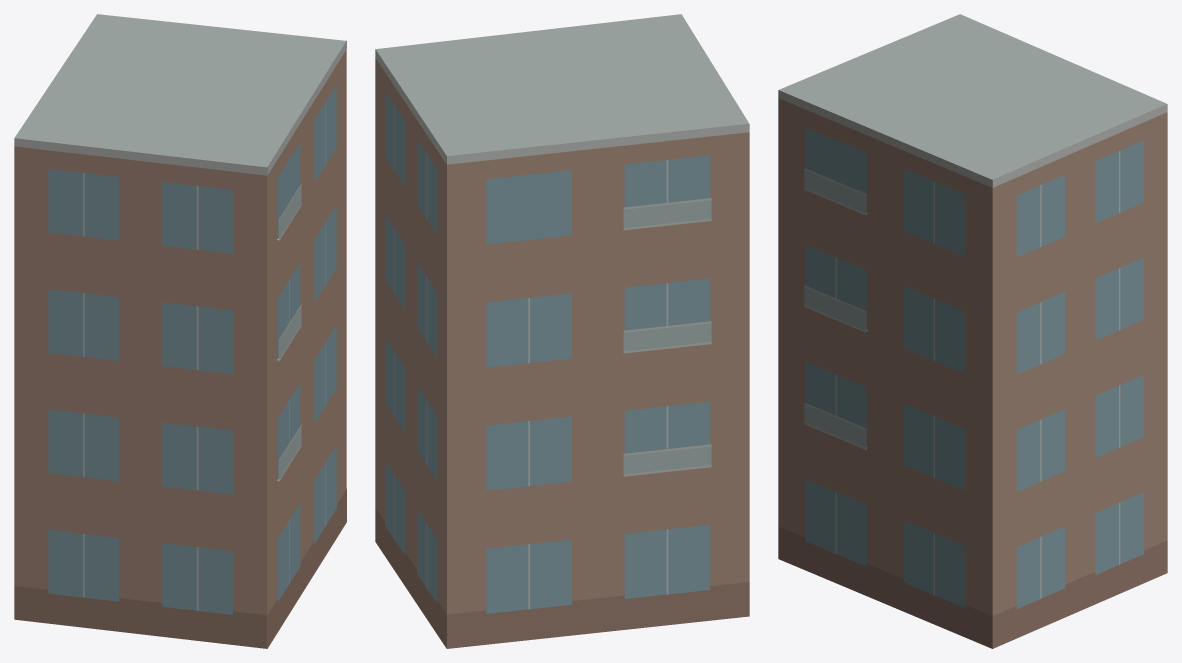
Rendered from survey-upis-32795684.glb.
3 renders of one model, left to right at view 1: azimuth 30°, elevation 25°; view 2: azimuth 150°, elevation 25°; view 3: azimuth 270°, elevation 25°, orthographic. The views are drawn at different scales.
Parts seen in each view (by area): view 1: survey-upis-32795684.tmp; view 2: survey-upis-32795684.tmp; view 3: survey-upis-32795684.tmp.
Boxes of the visible parts, x1,y1,x2,y2 form: survey-upis-32795684.tmp: (14, 14, 346, 648); survey-upis-32795684.tmp: (375, 14, 749, 648); survey-upis-32795684.tmp: (778, 14, 1167, 648).
Bounding box in the file's own units: 10.82 × 14.25 × 10.73.
